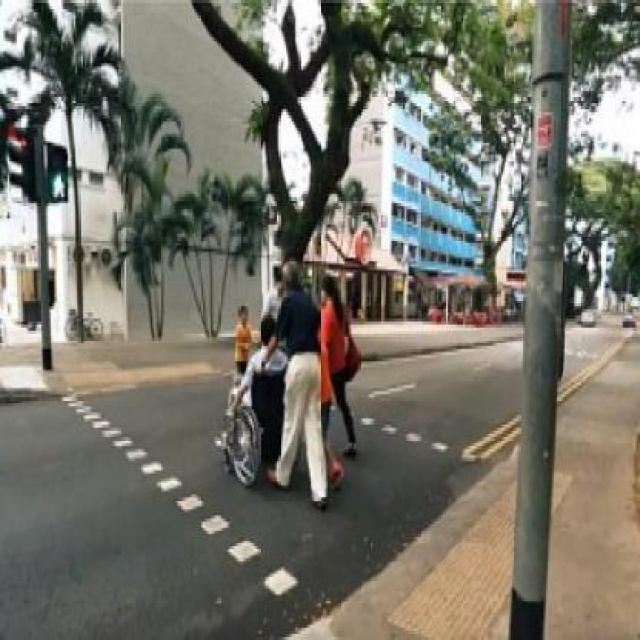Person: (262, 264, 328, 507), (220, 317, 288, 489), (314, 278, 360, 460), (234, 302, 252, 386)
